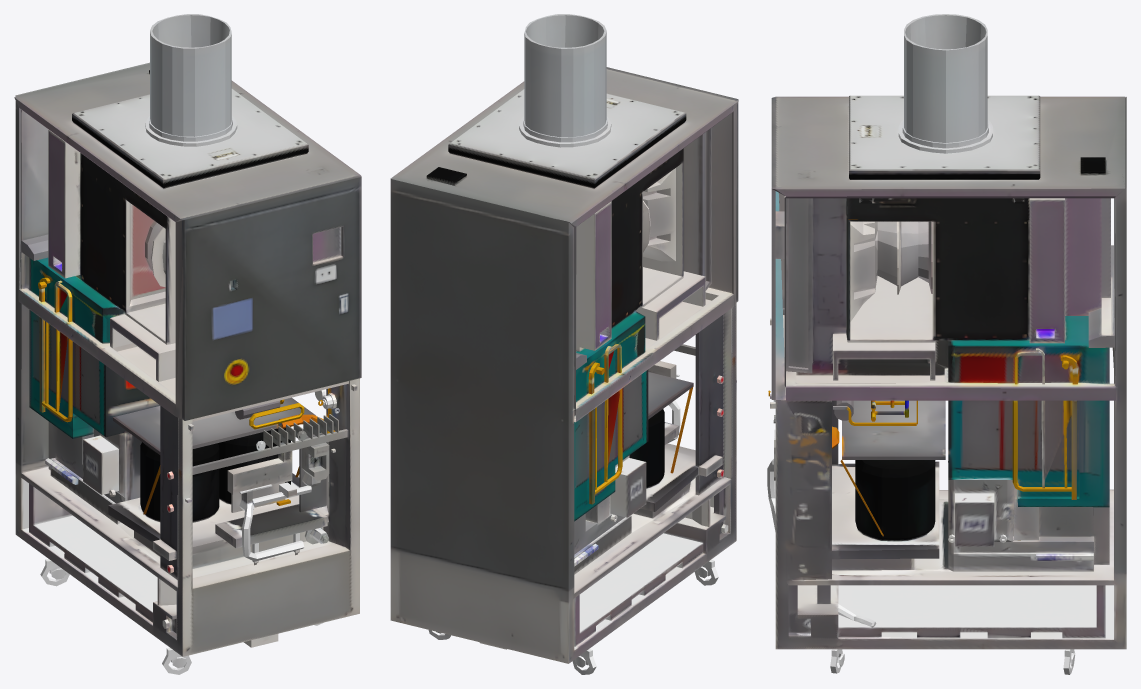
Rendered from base_basic_pbr.glb.
3 renders of one model, left to right at view 1: azimuth 30°, elevation 25°; view 2: azimuth 150°, elevation 25°; view 3: azimuth 270°, elevation 25°, orthographic. The views are drawn at different scales.
Visible parts, largest first — view 1: model; view 2: model; view 3: model.
Boxes of the visible parts, box(x1,y1,x2,y2) form: model: box(14, 14, 361, 674); model: box(390, 14, 738, 674); model: box(767, 14, 1126, 674).
Size of the model in its own units: 0.6394 by 1.9 by 1.02.
Materials: 1 (1 with a texture image).
